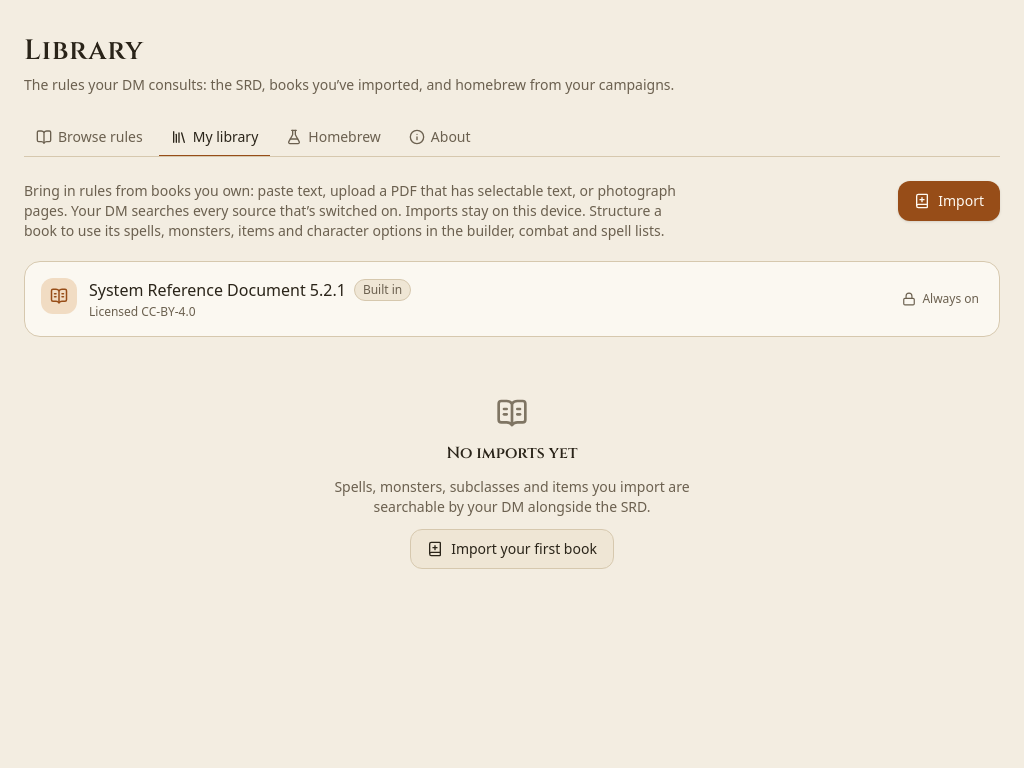
Test case: the import dialog › warns when the same book is already in the library
The width and height of the screenshot is (1024, 768).
Step 1. Click the button "Import" → point(949, 201), box [898,181,1000,221]
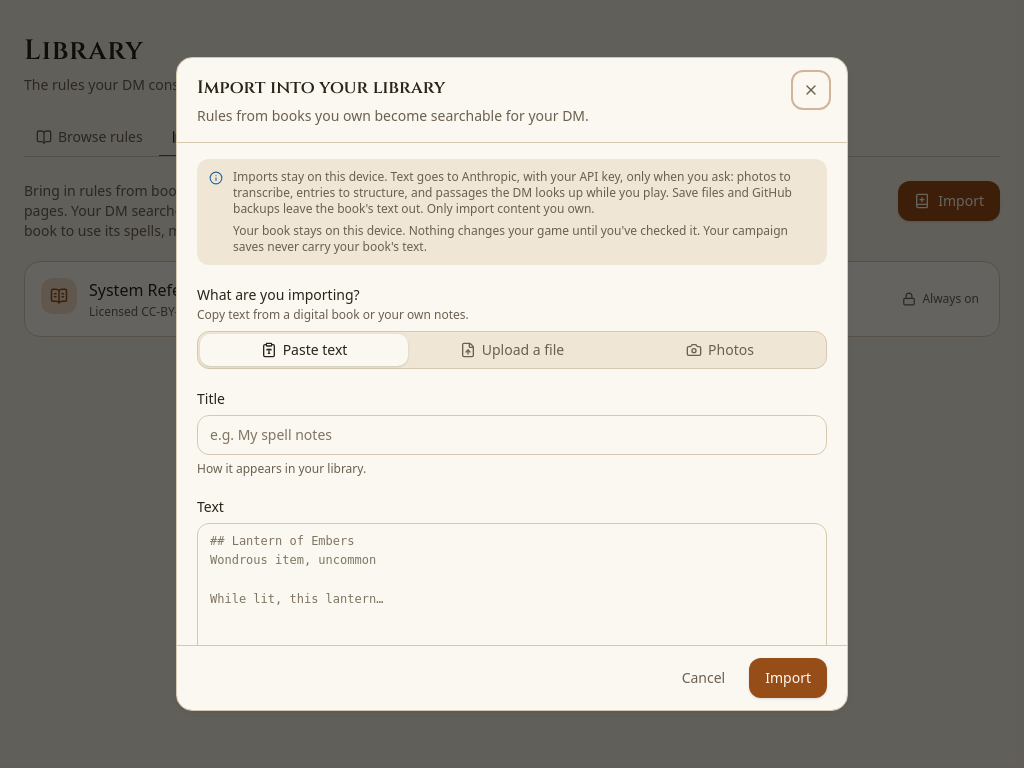
Step 2. Type "The Gloamwood Almanac" into the field labelled "Title" → point(512, 435), box [197,415,827,455]
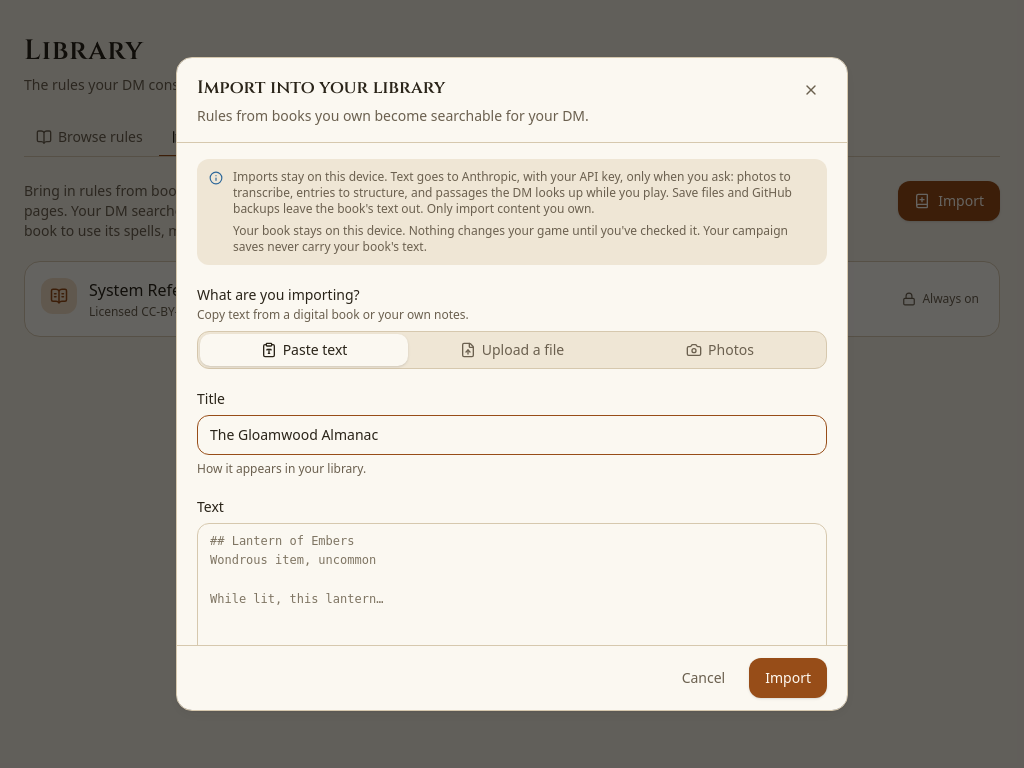
Step 3. Type "## Ashen Choir" into the text box labelled "Text" → point(512, 619), box [197,523,827,716]
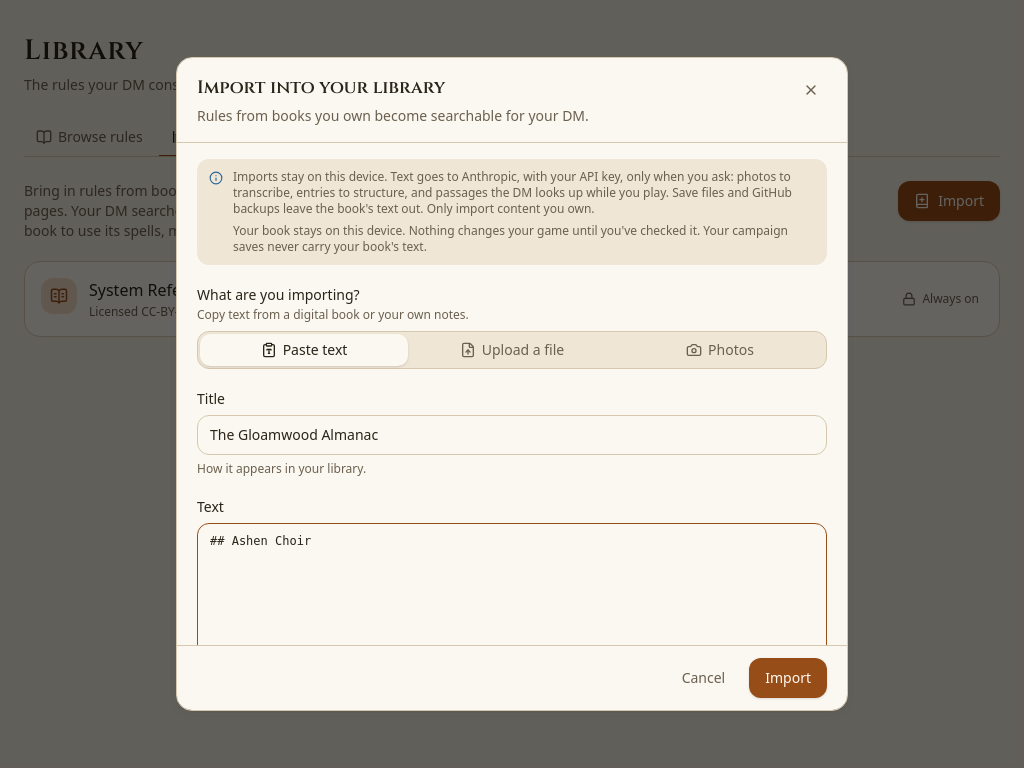
Step 4. Click the button "Import" → point(788, 678), box [749,658,827,698]
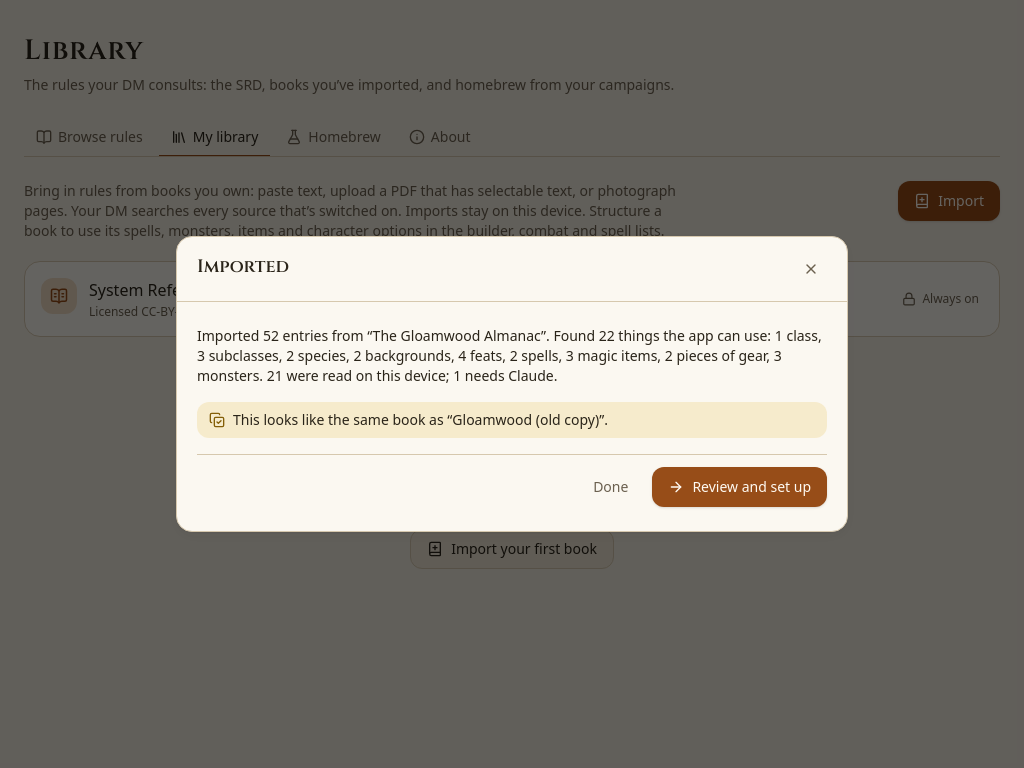
Now the text "This looks like the same book as “Gloamwood (old copy)”." is shown, box [233,410,608,430]
